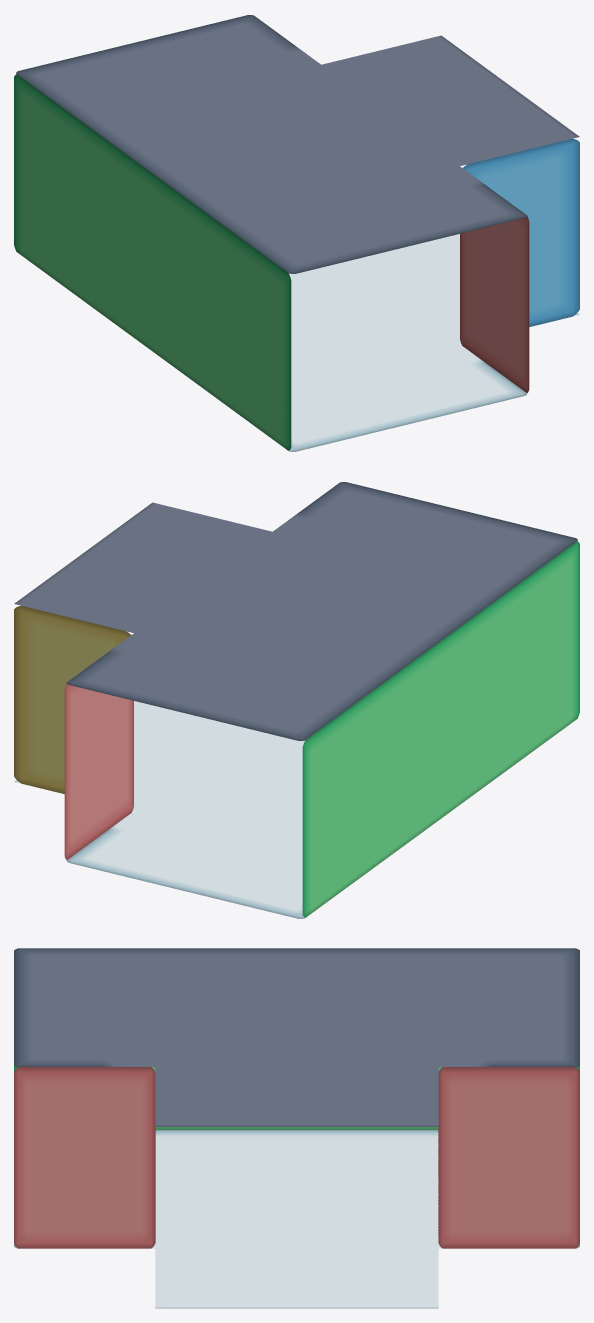
File: T-joint.fbx
3 views of the same model, one above another, from view 1: azimuth 30°, elevation 25°; view 2: azimuth 150°, elevation 25°; view 3: azimuth 270°, elevation 25° (orthographic). The views are drawn at different scales.
Visible parts, largest first — view 1: T-joint; view 2: T-joint; view 3: T-joint.
Part boxes in pixels (box(x1,y1,x2,y2)): T-joint: box(14, 15, 579, 451); T-joint: box(14, 482, 579, 918); T-joint: box(14, 948, 579, 1308).
Bounding box in the file's own units: 27.97 × 13.28 × 37.5.
1 material, 1 textured.
